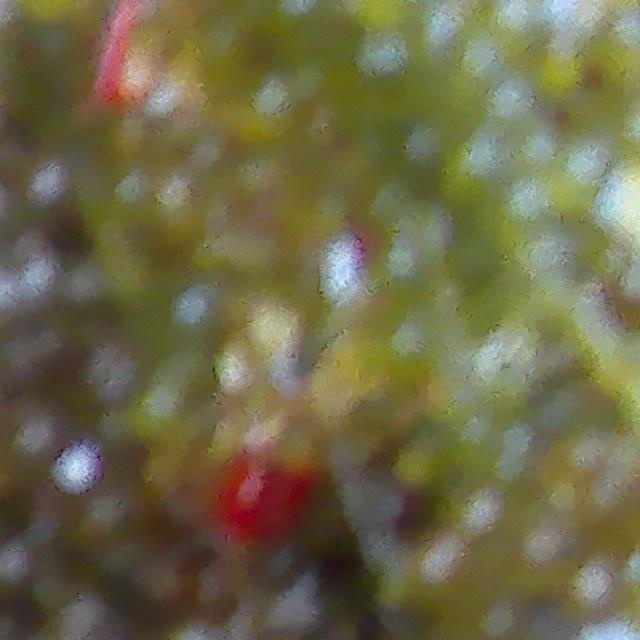SeaGrape: (34, 432, 127, 541), (11, 154, 71, 214)
